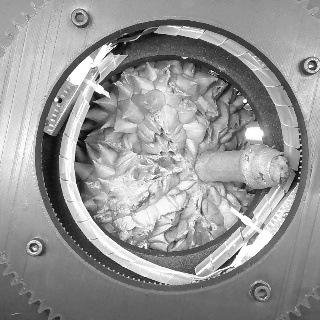base: (191, 141, 228, 186)
end: (268, 154, 290, 185)
